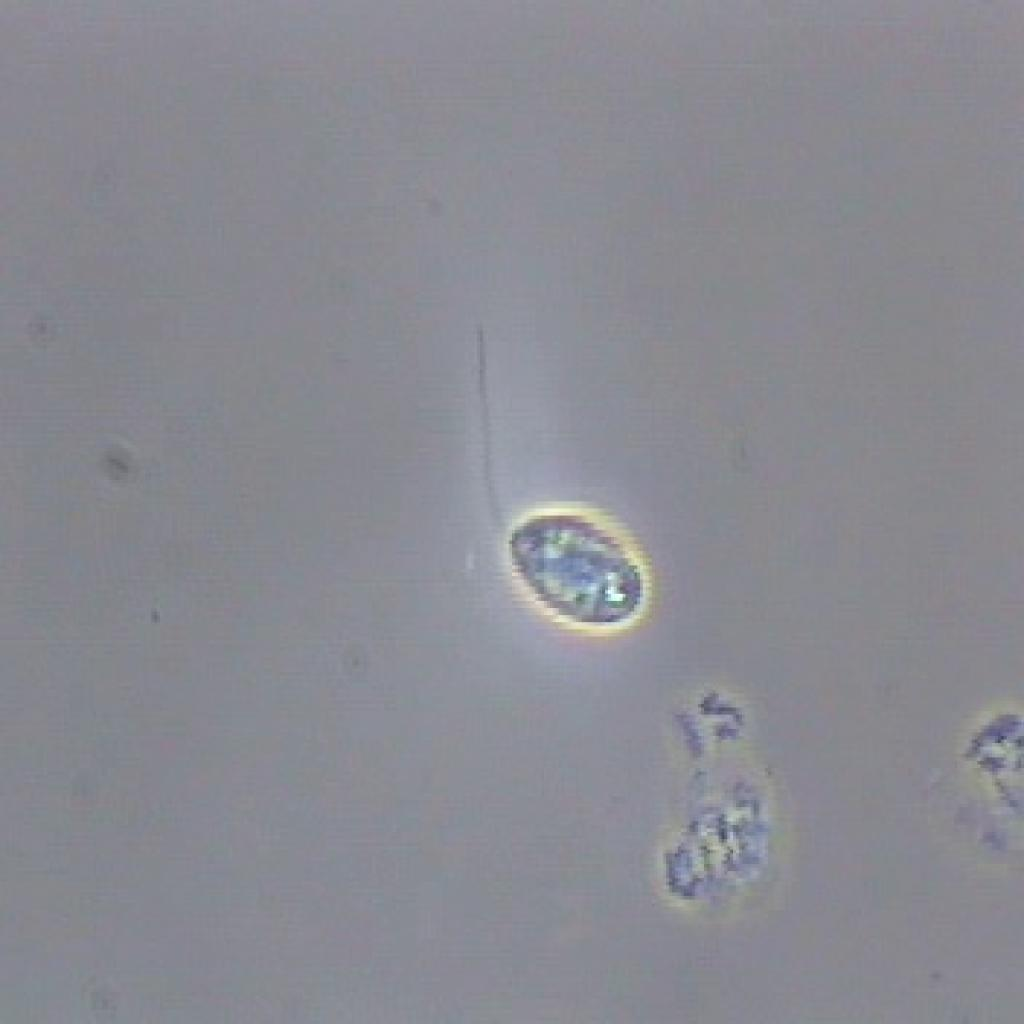Flagellates: (445, 322, 658, 660)
